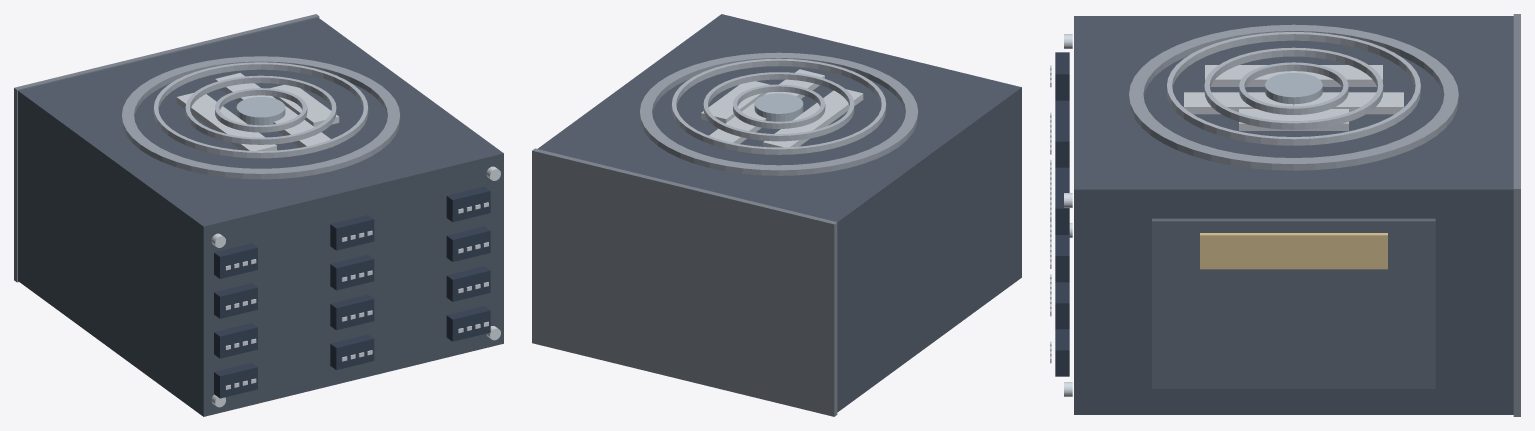
Rendered from corsair-rm750e-2025.glb.
The picture shows the model from 3 angles, left to right: view 1: azimuth 30°, elevation 25°; view 2: azimuth 150°, elevation 25°; view 3: azimuth 270°, elevation 25°; orthographic projection. The views are drawn at different scales.
Parts seen in each view (by area): view 1: powdercoated_chassis-0, fan_guard_outer-2, fan_guard_ring-11, fan_guard_ring-10, rear_plate-1, fan_guard_ring-9, modular_socket-37, modular_socket-42, modular_socket-32, modular_socket-47, fan_hub-8, modular_socket-67 (+12 smaller); view 2: powdercoated_chassis-0, rear_plate-1, fan_guard_outer-2, fan_guard_ring-11, fan_guard_ring-10, fan_guard_ring-9, fan_hub-8, fan_blade-3, fan_blade-5, fan_blade-7, fan_blade-6, fan_blade-4; view 3: powdercoated_chassis-0, label_panel-72, fan_guard_outer-2, gold_efficiency_plate-73, fan_guard_ring-11, fan_guard_ring-10, rear_plate-1, fan_guard_ring-9, fan_hub-8, fan_blade-4, fan_blade-7, fan_blade-3 (+8 smaller).
Part boxes in pixels (box(x1,y1,x2,y2)): powdercoated_chassis-0: box(18, 17, 503, 416); fan_guard_outer-2: box(122, 56, 400, 179); fan_guard_ring-11: box(153, 62, 368, 158); fan_guard_ring-10: box(185, 75, 336, 144); rear_plate-1: box(14, 14, 319, 282); fan_guard_ring-9: box(215, 88, 307, 132); modular_socket-37: box(330, 294, 374, 330); modular_socket-42: box(330, 254, 374, 290); modular_socket-32: box(330, 334, 374, 369); modular_socket-47: box(330, 215, 374, 250); fan_hub-8: box(236, 97, 285, 125); modular_socket-67: box(446, 186, 490, 222); powdercoated_chassis-0: box(537, 14, 1021, 412); rear_plate-1: box(532, 148, 837, 416); fan_guard_outer-2: box(640, 52, 918, 175); fan_guard_ring-11: box(671, 58, 886, 154); fan_guard_ring-10: box(703, 72, 854, 141); fan_guard_ring-9: box(733, 84, 825, 128); fan_hub-8: box(754, 93, 803, 121); fan_blade-3: box(701, 81, 770, 123); fan_blade-5: box(793, 89, 863, 129); fan_blade-7: box(707, 103, 766, 143); fan_blade-6: box(763, 110, 834, 147); fan_blade-4: box(753, 69, 824, 103); powdercoated_chassis-0: box(1074, 16, 1513, 414); label_panel-72: box(1152, 218, 1435, 388); fan_guard_outer-2: box(1129, 24, 1458, 170); gold_efficiency_plate-73: box(1200, 233, 1387, 269); fan_guard_ring-11: box(1167, 32, 1420, 145); fan_guard_ring-10: box(1204, 47, 1383, 129); rear_plate-1: box(1513, 14, 1520, 416); fan_guard_ring-9: box(1239, 62, 1348, 114); fan_hub-8: box(1265, 72, 1322, 105); fan_blade-4: box(1184, 92, 1293, 114); fan_blade-7: box(1294, 92, 1403, 114); fan_blade-3: box(1239, 109, 1348, 130).
Bounding box in the file's own units: 1.47 × 0.9325 × 1.63.
